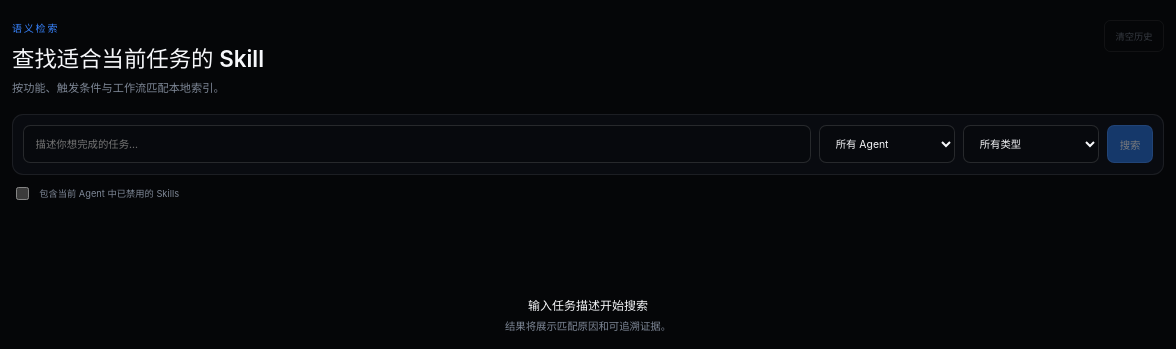
Test case: SemanticSearch › requires confirmation before clearing retained search history
In the search field: [417, 144] box [23, 125, 812, 163], type "publish a release"
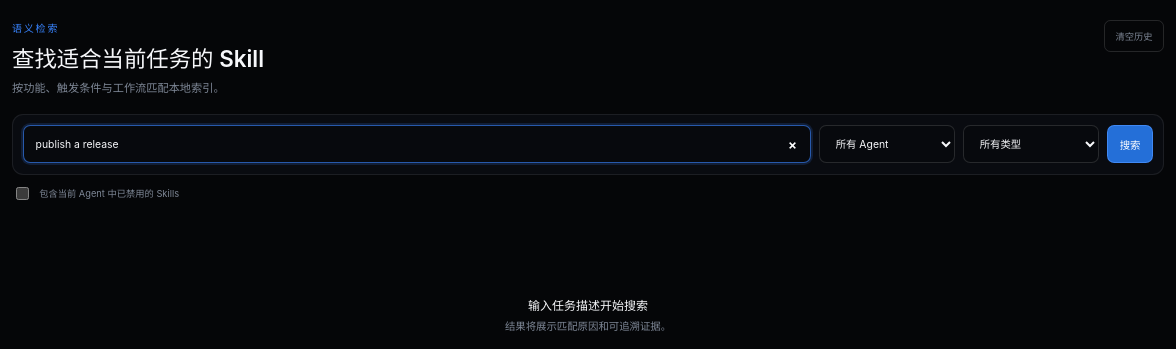
Select "Cursor" in the dropdown named "Agent 筛选": [888, 144] box [820, 125, 956, 163]
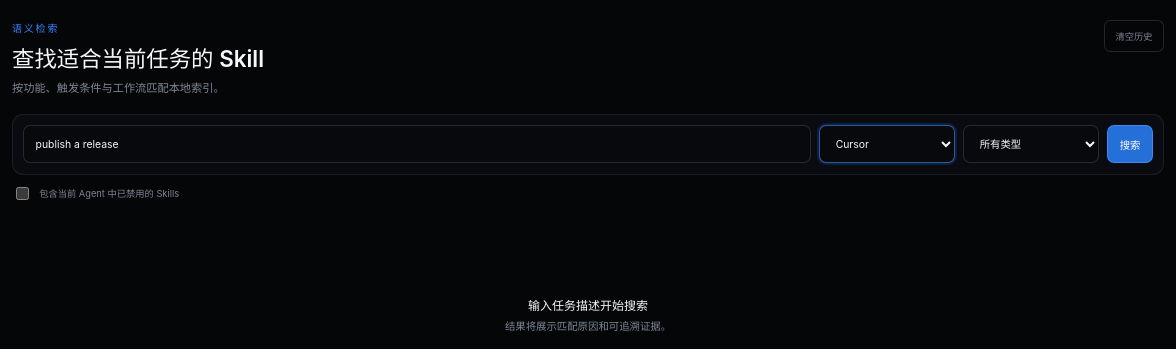
Click the button "搜索": [1130, 144] box [1108, 125, 1153, 163]
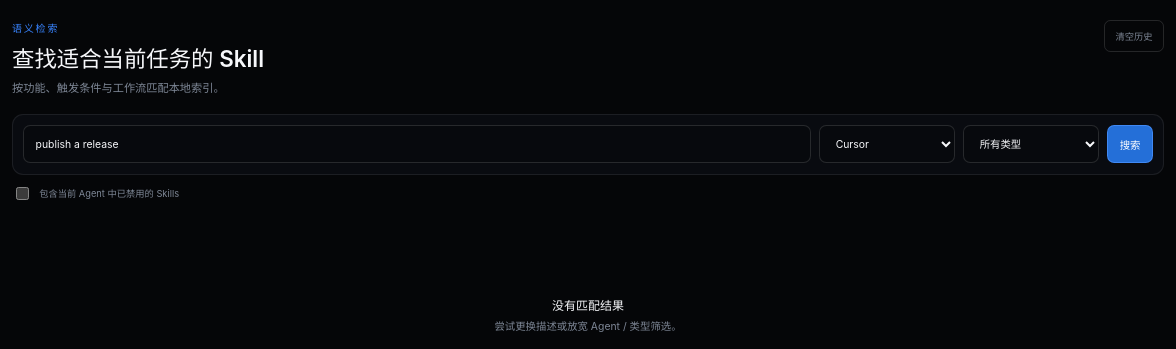
Expected: the text "没有匹配结果" is shown, [552, 296, 624, 313]
Click the button "清空历史": [1134, 36] box [1104, 20, 1164, 52]
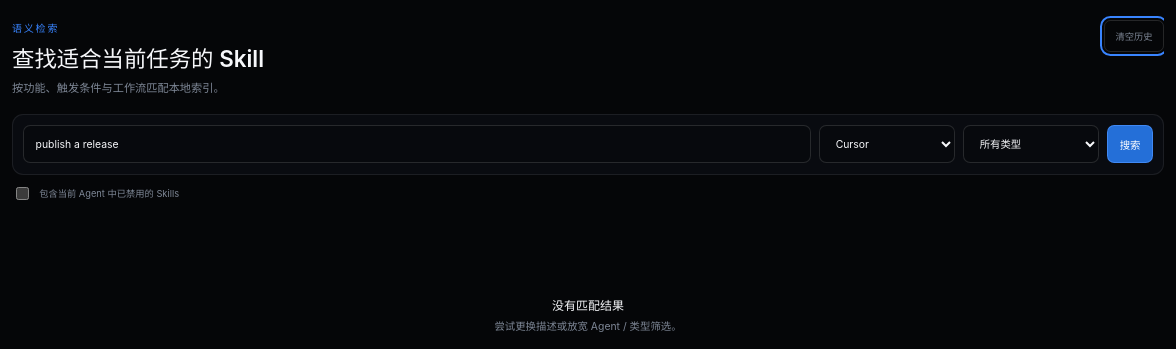
Click the button "清空历史": [1134, 36] box [1104, 20, 1164, 52]
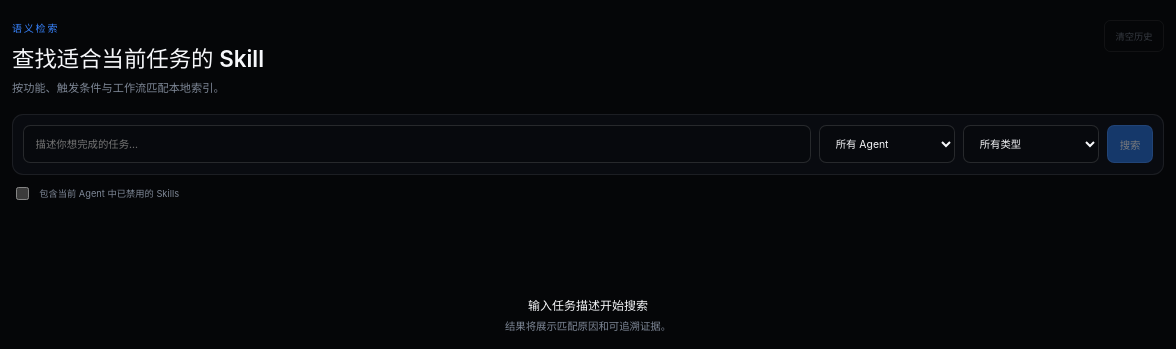
Expected: the search field is empty, [23, 125, 812, 163]
Expected: the text "输入任务描述开始搜索" is shown, [528, 296, 648, 313]
Expected: the button "清空历史" is disabled, [1104, 20, 1164, 52]
